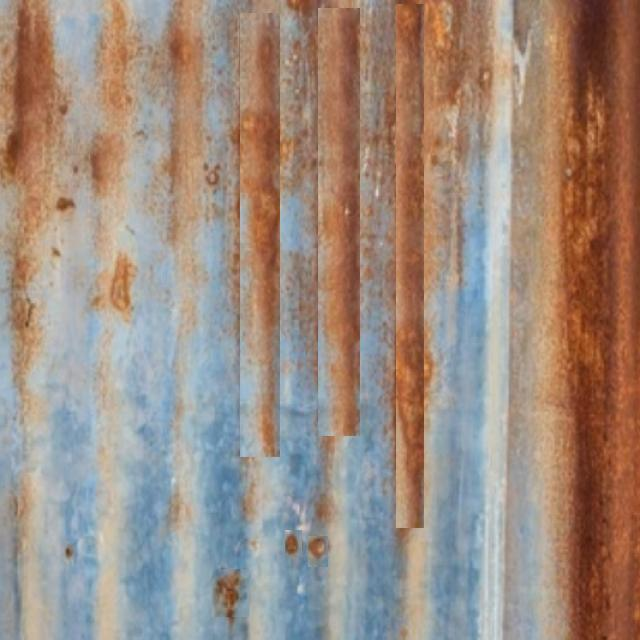Corrosion: (503, 0, 640, 640), (319, 7, 360, 386), (240, 12, 280, 360), (90, 0, 138, 270), (170, 0, 206, 312), (13, 0, 61, 226), (396, 0, 425, 356), (397, 458, 423, 528), (321, 390, 359, 436)
